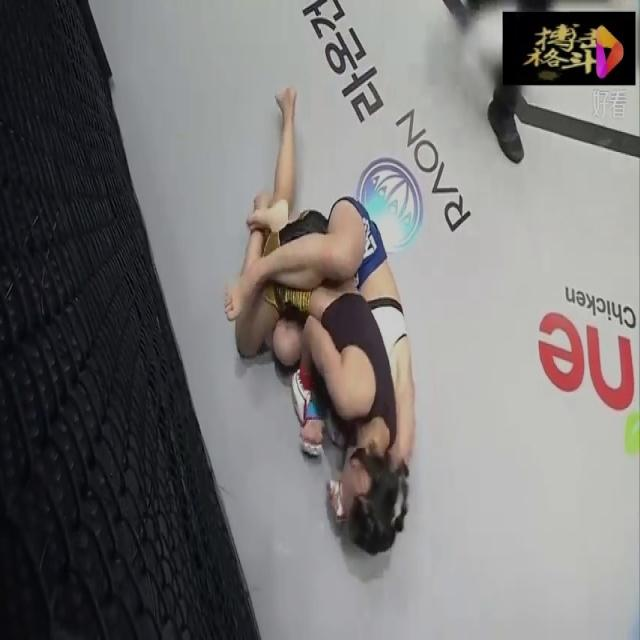fight: (218, 76, 422, 556)
